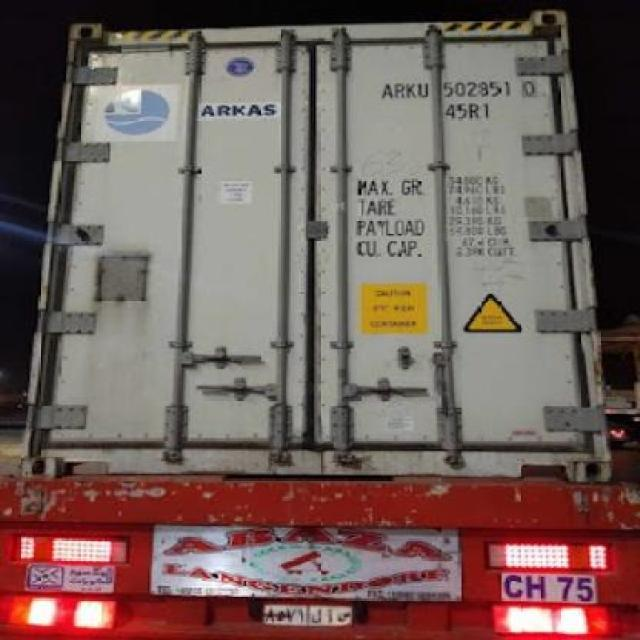ISO: (446, 104, 496, 124)
container_number: (387, 78, 547, 100)
